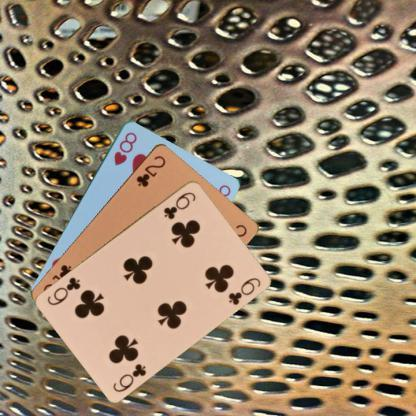2c: (133, 152, 167, 188)
6c: (110, 360, 148, 394), (161, 189, 198, 221)
8h: (111, 129, 138, 167)
